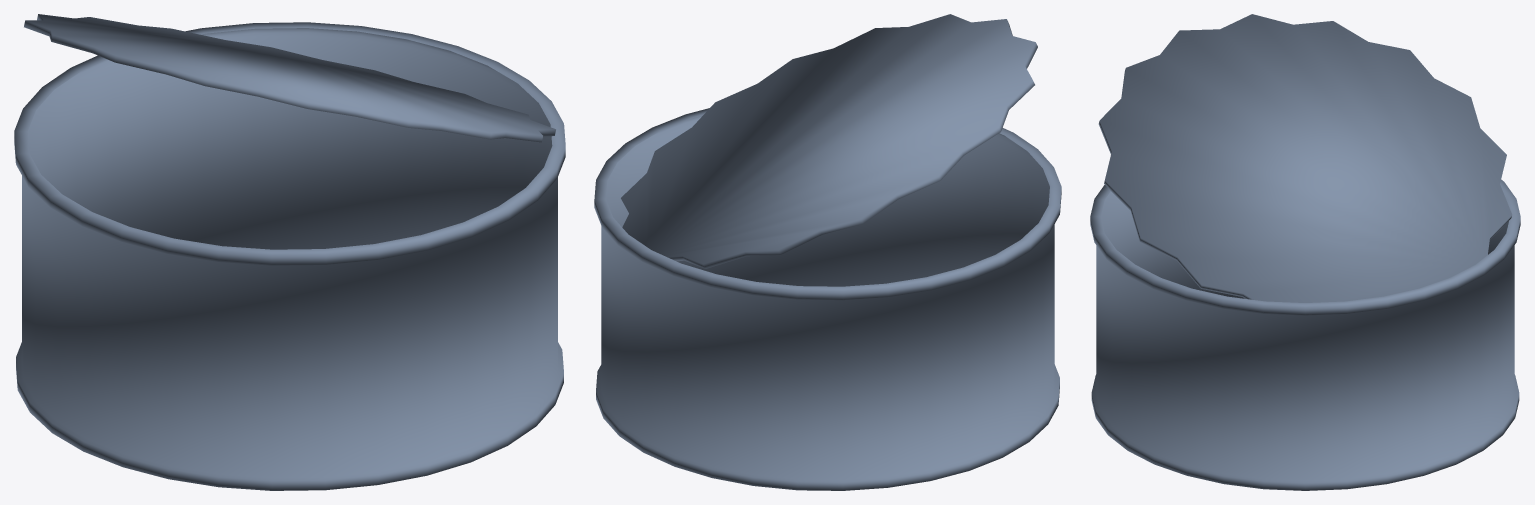
The model's file is Tunacan.fbx.
The picture shows the model from 3 angles, left to right: view 1: azimuth 30°, elevation 25°; view 2: azimuth 150°, elevation 25°; view 3: azimuth 270°, elevation 25°; orthographic projection. The views are drawn at different scales.
Parts seen in each view (by area): view 1: Cylinder; view 2: Cylinder; view 3: Cylinder.
Boxes of the visible parts, left/top/right/bottom form: Cylinder: left=14, top=14, right=565, bottom=490; Cylinder: left=594, top=14, right=1061, bottom=490; Cylinder: left=1090, top=14, right=1520, bottom=490.
Bounding box in the file's own units: 61.78 × 48.72 × 61.78.
